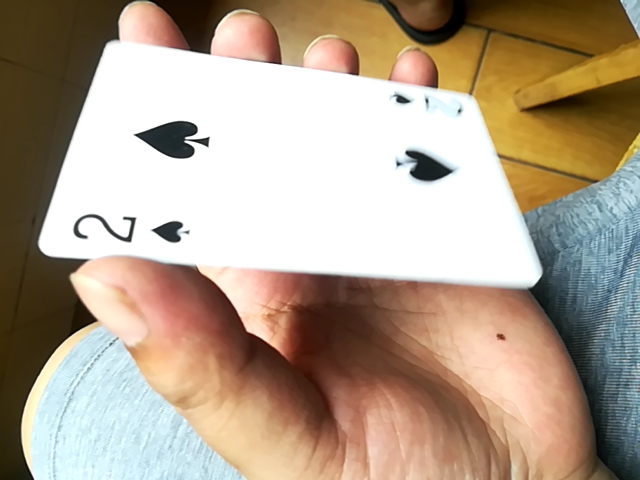ht 2: (39, 37, 535, 285)
